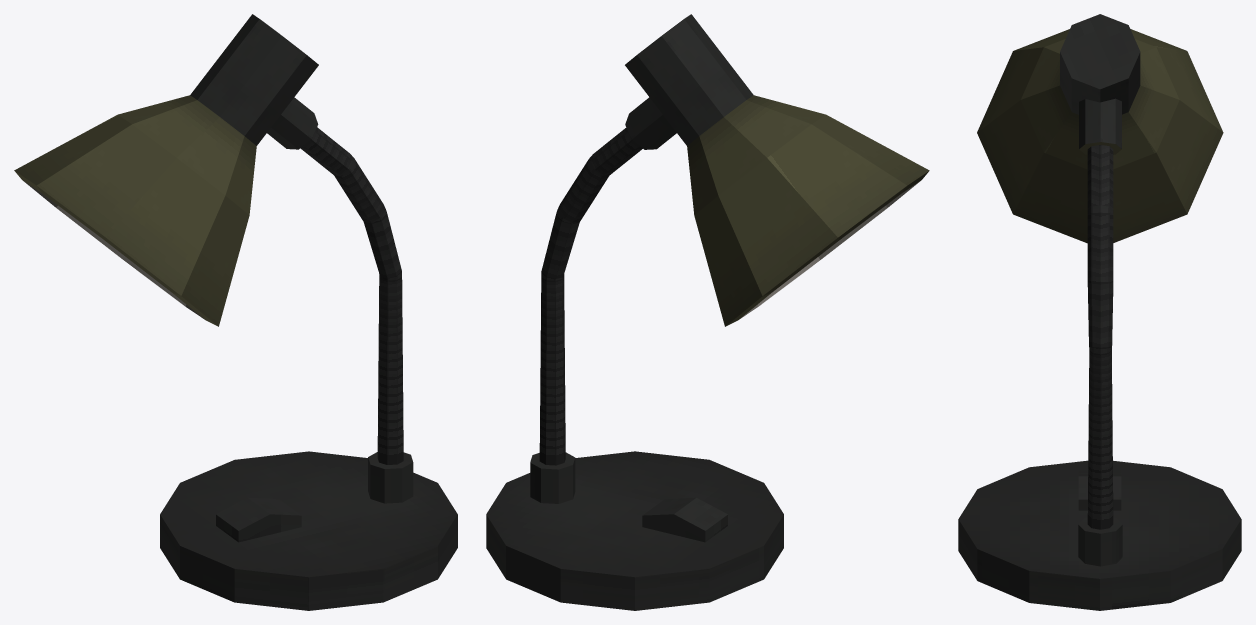
Rendered from Lamp.fbx.
3 renders of one model, left to right at view 1: azimuth 30°, elevation 25°; view 2: azimuth 150°, elevation 25°; view 3: azimuth 270°, elevation 25°, orthographic. The views are drawn at different scales.
Visible parts, largest first — view 1: Lamp, LampSwitch; view 2: Lamp, LampSwitch; view 3: Lamp, LampSwitch.
Part boxes in pixels (x1,y1,x2,y2): Lamp: (14,14,457,610); LampSwitch: (216,497,301,542); Lamp: (486,14,929,610); LampSwitch: (642,497,727,542); Lamp: (958,14,1241,610); LampSwitch: (1078,470,1121,510).
Bounding box in the file's own units: 0.2739 × 0.353 × 0.1761.
Materials: 2 (1 with a texture image).
